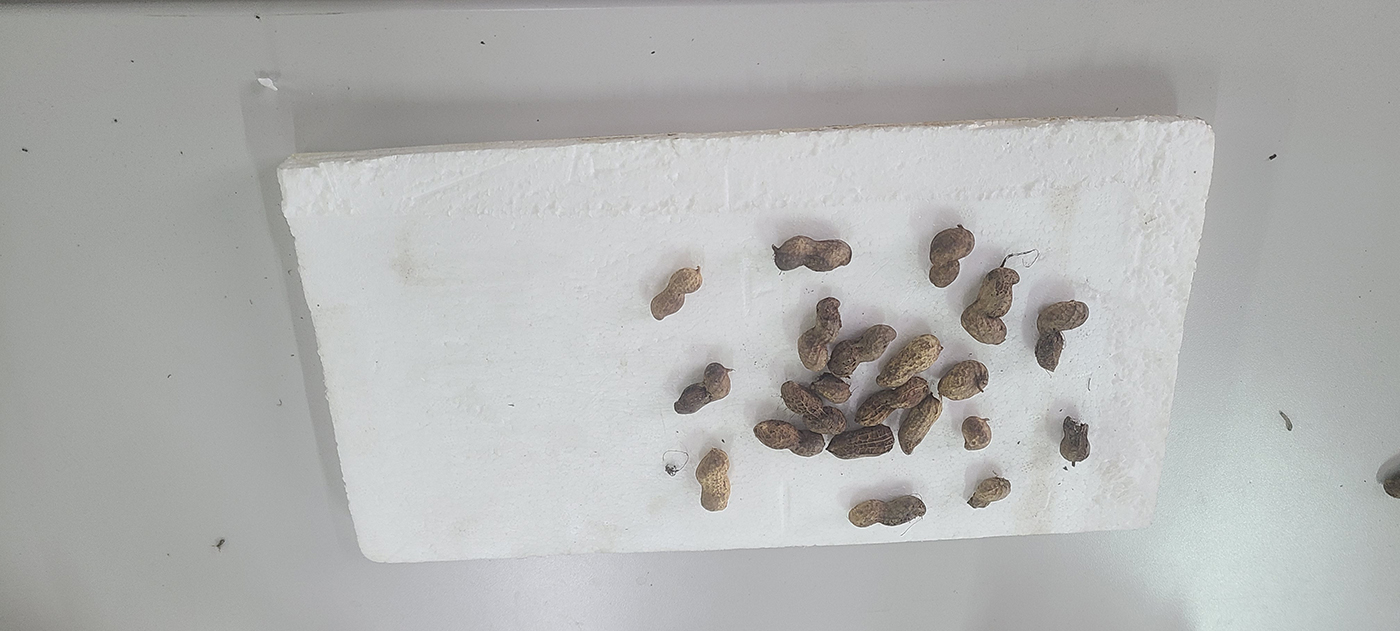l: (961, 268, 1020, 345), (1035, 299, 1089, 372), (827, 324, 898, 377), (854, 376, 928, 426), (876, 335, 942, 388), (797, 297, 843, 371), (781, 382, 846, 434), (674, 362, 730, 414), (753, 419, 826, 457), (774, 236, 851, 272), (651, 267, 703, 320), (898, 397, 941, 455), (848, 495, 927, 526), (826, 425, 894, 459), (696, 448, 731, 511), (938, 359, 989, 400), (930, 227, 975, 263), (1059, 416, 1092, 464), (969, 476, 1013, 509), (811, 374, 851, 403), (962, 415, 991, 450), (929, 261, 961, 287)
